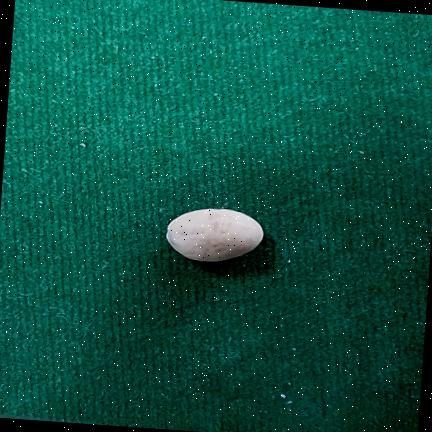husk: (166, 208, 263, 261)
